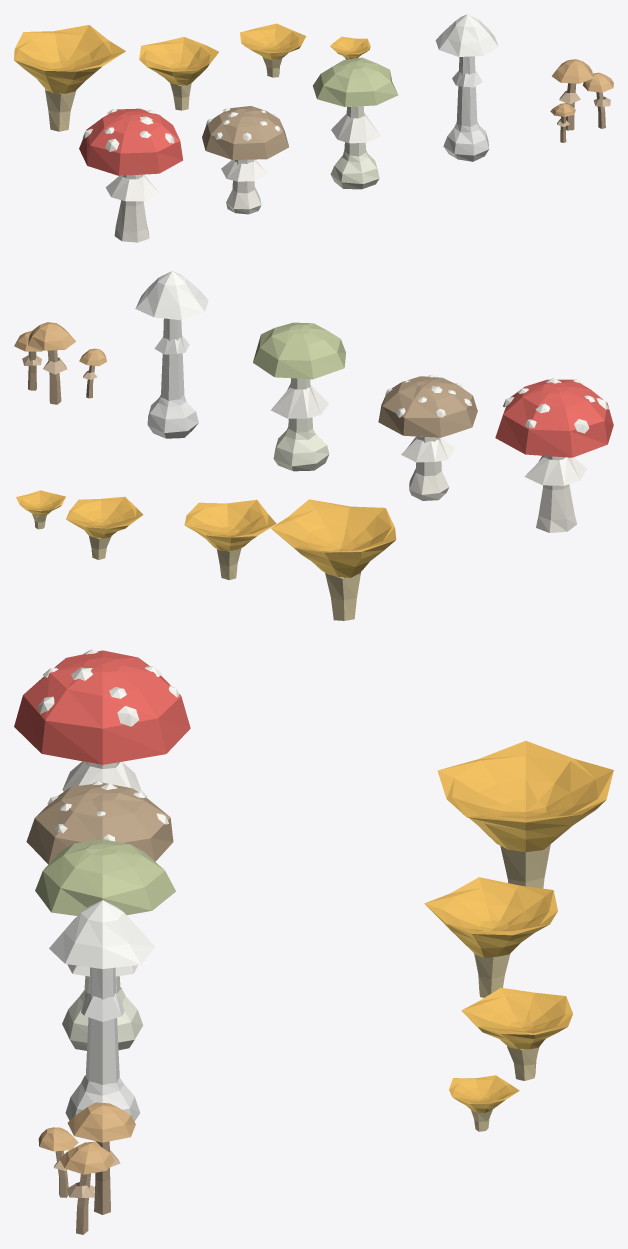
Rendered from mushrooms_lowpoly_detached.glb.
The picture shows the model from 3 angles, top to bottom: view 1: azimuth 30°, elevation 25°; view 2: azimuth 150°, elevation 25°; view 3: azimuth 270°, elevation 25°; orthographic projection. The views are drawn at different scales.
Visible parts, largest first — view 1: Poison_FlyAgaric_Cap, Chanterelle_Large_Cap, Poison_PantherCap_Cap, Poison_DeathCap_Cap, Poison_DeathCap_Stem, Poison_DestroyingAngel_Stem, Chanterelle_Medium_Cap, Poison_FlyAgaric_Stem, Poison_DestroyingAngel_Cap, Poison_PantherCap_Stem, Chanterelle_Small_Cap, Chanterelle_Large_Stem (+6 smaller); view 2: Poison_FlyAgaric_Cap, Chanterelle_Large_Cap, Poison_PantherCap_Cap, Poison_DeathCap_Cap, Poison_DeathCap_Stem, Poison_DestroyingAngel_Stem, Chanterelle_Medium_Cap, Poison_FlyAgaric_Stem, Poison_DestroyingAngel_Cap, Poison_PantherCap_Stem, Chanterelle_Small_Cap, Chanterelle_Large_Stem (+4 smaller); view 3: Poison_FlyAgaric_Cap, Chanterelle_Large_Cap, Poison_DeathCap_Cap, Poison_PantherCap_Cap, Chanterelle_Medium_Cap, Poison_DestroyingAngel_Stem, Poison_DestroyingAngel_Cap, Chanterelle_Small_Cap, Poison_DeathCap_Stem, Poison_GalerinaCluster_A_Cap, Chanterelle_Tiny_Cap, Chanterelle_Large_Stem (+5 smaller).
Part boxes in pixels (<box>): Poison_FlyAgaric_Cap: <box>79,108,183,175</box>; Chanterelle_Large_Cap: <box>14,25,125,93</box>; Poison_PantherCap_Cap: <box>202,106,288,159</box>; Poison_DeathCap_Cap: <box>313,57,398,107</box>; Poison_DeathCap_Stem: <box>330,106,380,189</box>; Poison_DestroyingAngel_Stem: <box>443,56,489,161</box>; Chanterelle_Medium_Cap: <box>139,37,218,85</box>; Poison_FlyAgaric_Stem: <box>105,174,159,242</box>; Poison_DestroyingAngel_Cap: <box>435,14,498,56</box>; Poison_PantherCap_Stem: <box>221,159,267,214</box>; Chanterelle_Small_Cap: <box>240,23,306,60</box>; Chanterelle_Large_Stem: <box>45,89,76,131</box>; Poison_FlyAgaric_Cap: <box>495,378,613,457</box>; Chanterelle_Large_Cap: <box>270,499,396,577</box>; Poison_PantherCap_Cap: <box>378,374,477,437</box>; Poison_DeathCap_Cap: <box>253,322,346,379</box>; Poison_DeathCap_Stem: <box>271,378,329,471</box>; Poison_DestroyingAngel_Stem: <box>147,318,198,438</box>; Chanterelle_Medium_Cap: <box>184,499,276,550</box>; Poison_FlyAgaric_Stem: <box>524,455,586,532</box>; Poison_DestroyingAngel_Cap: <box>135,271,208,320</box>; Poison_PantherCap_Stem: <box>401,436,455,500</box>; Chanterelle_Small_Cap: <box>66,496,143,538</box>; Chanterelle_Large_Stem: <box>325,572,360,620</box>; Poison_FlyAgaric_Cap: <box>14,649,190,764</box>; Chanterelle_Large_Cap: <box>437,740,613,852</box>; Poison_DeathCap_Cap: <box>35,839,175,915</box>; Poison_PantherCap_Cap: <box>26,781,173,864</box>; Chanterelle_Medium_Cap: <box>424,877,557,957</box>; Poison_DestroyingAngel_Stem: <box>65,967,140,1121</box>; Poison_DestroyingAngel_Cap: <box>49,900,155,968</box>; Chanterelle_Small_Cap: <box>461,987,572,1049</box>; Poison_DeathCap_Stem: <box>62,964,143,1050</box>; Poison_GalerinaCluster_A_Cap: <box>67,1102,135,1142</box>; Chanterelle_Tiny_Cap: <box>449,1075,519,1112</box>; Chanterelle_Large_Stem: <box>500,844,550,888</box>.
Size of the model in its own units: 5.6 by 1.44 by 3.4.
